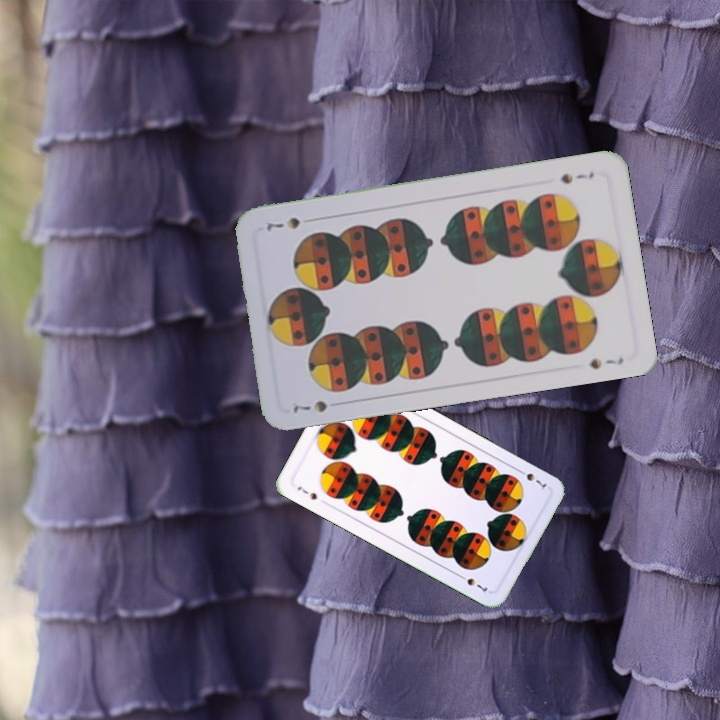S7: (513, 465, 549, 493), (556, 167, 597, 187), (289, 396, 330, 416), (293, 482, 320, 503)
